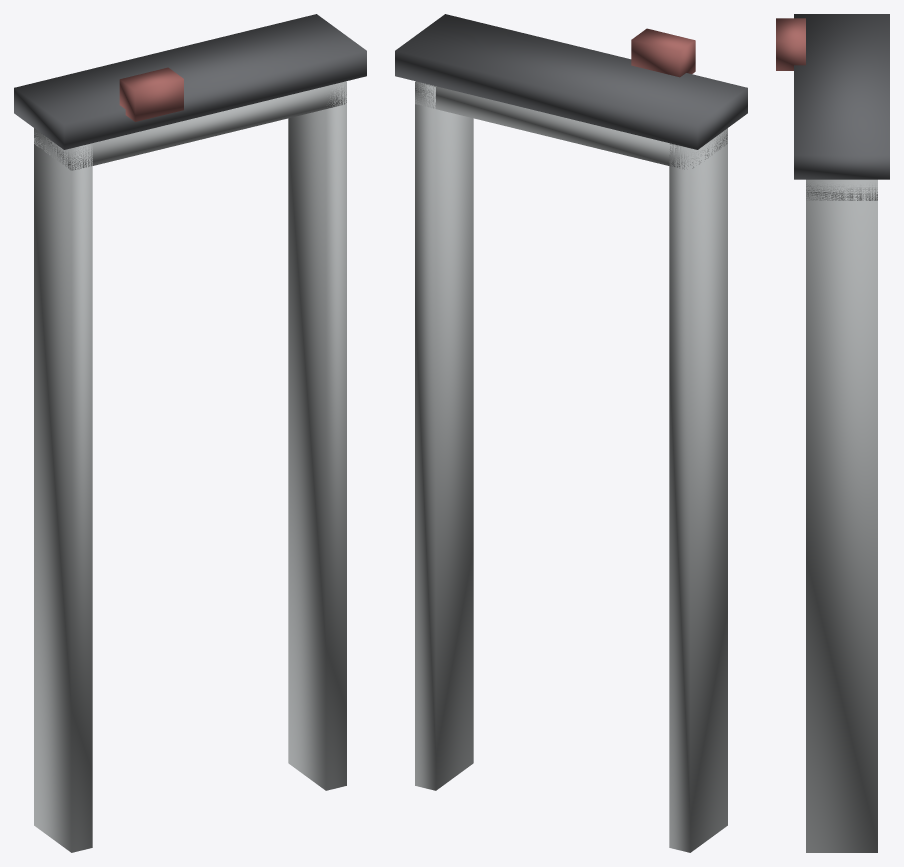
Rendered from doorway_fire_rated_w86_h240_d24.glb.
The picture shows the model from 3 angles, left to right: view 1: azimuth 30°, elevation 25°; view 2: azimuth 150°, elevation 25°; view 3: azimuth 270°, elevation 25°; orthographic projection. The views are drawn at different scales.
Parts seen in each view (by area): view 1: world; view 2: world; view 3: world.
Boxes of the visible parts, bbox=[...] form: world: bbox=[14, 14, 366, 852]; world: bbox=[395, 14, 747, 852]; world: bbox=[776, 14, 889, 852].
Bounding box in the file's own units: 1.11 × 2.68 × 0.38.
